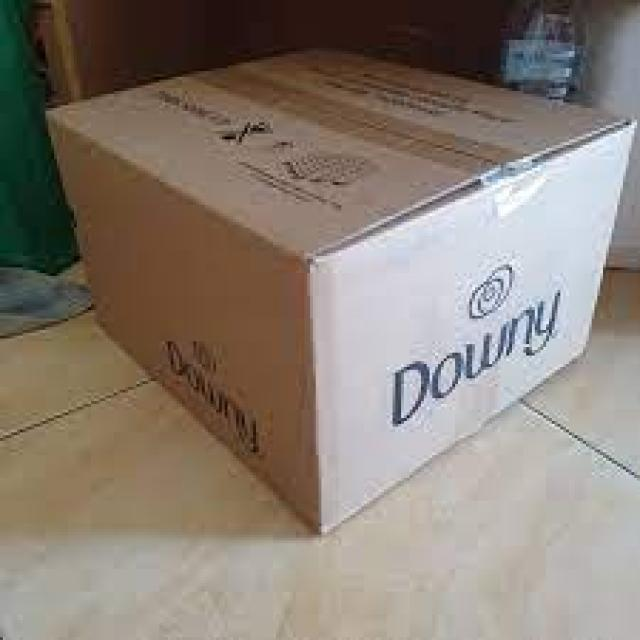Kardus kondisi bagus: (48, 45, 634, 538)
